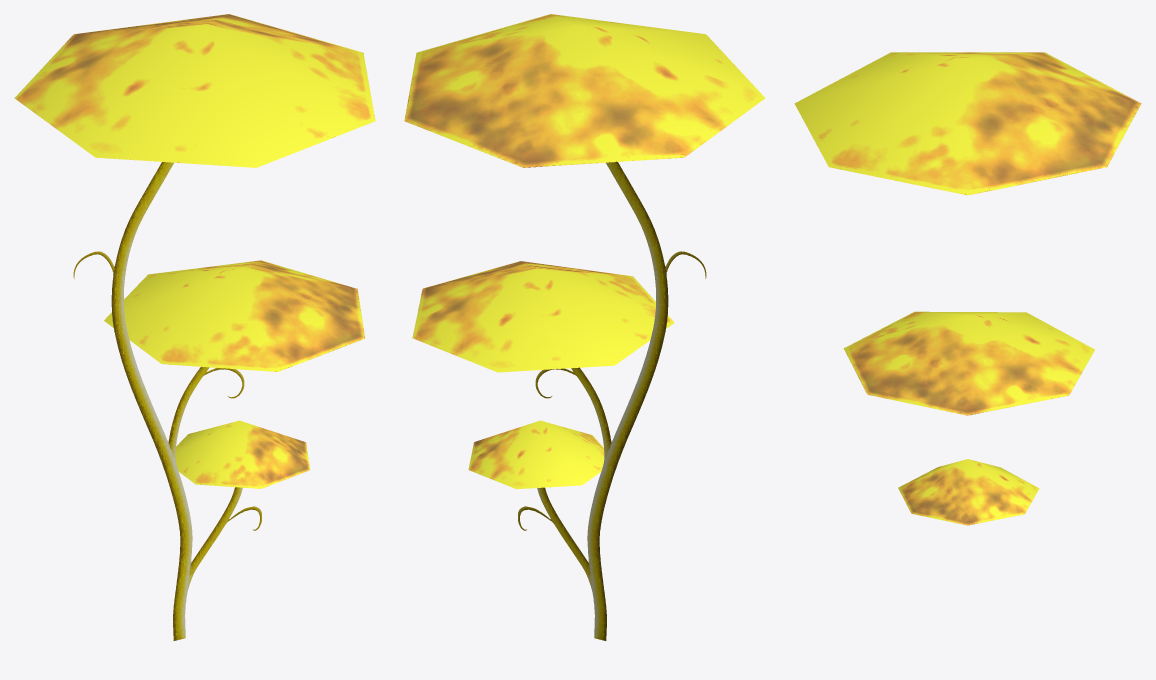
The model's file is Mushroom_A_v1.fbx.
3 views of the same model, side by side, from view 1: azimuth 30°, elevation 25°; view 2: azimuth 150°, elevation 25°; view 3: azimuth 270°, elevation 25° (orthographic). The views are drawn at different scales.
Visible parts, largest first — view 1: polySurface2; view 2: polySurface2; view 3: polySurface2.
Part boxes in pixels (x1,y1,x2,y2): polySurface2: [14, 14, 375, 640]; polySurface2: [404, 14, 765, 640]; polySurface2: [794, 52, 1141, 525].
Size of the model in its own units: 4.87 by 9.18 by 5.
